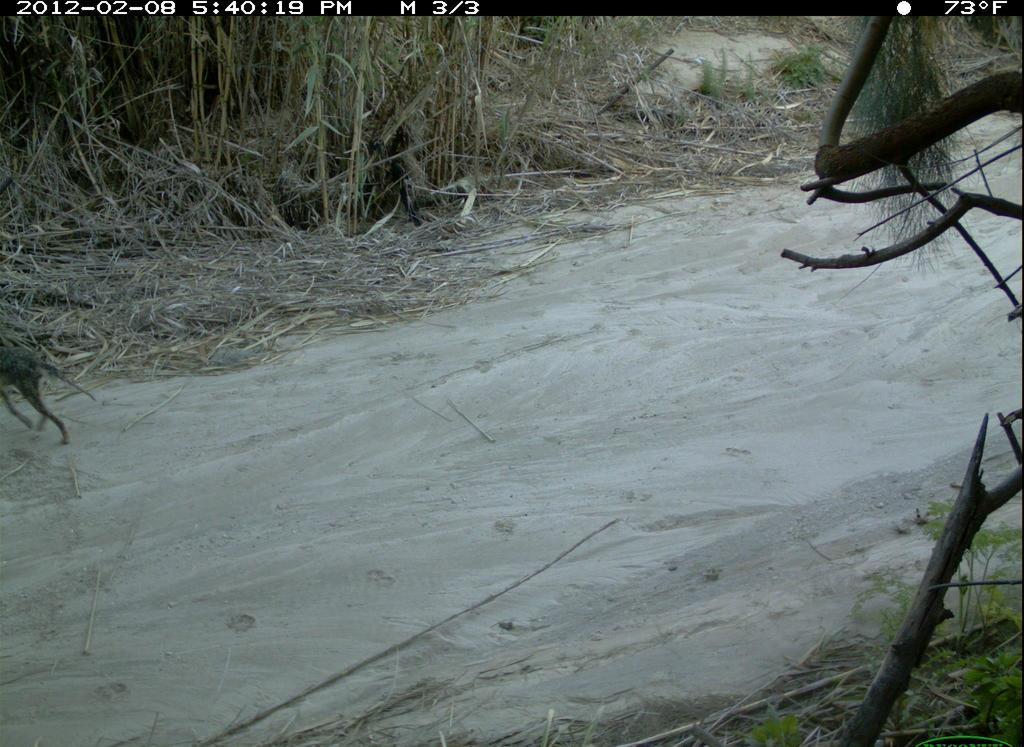coyote: (1, 338, 105, 451)
